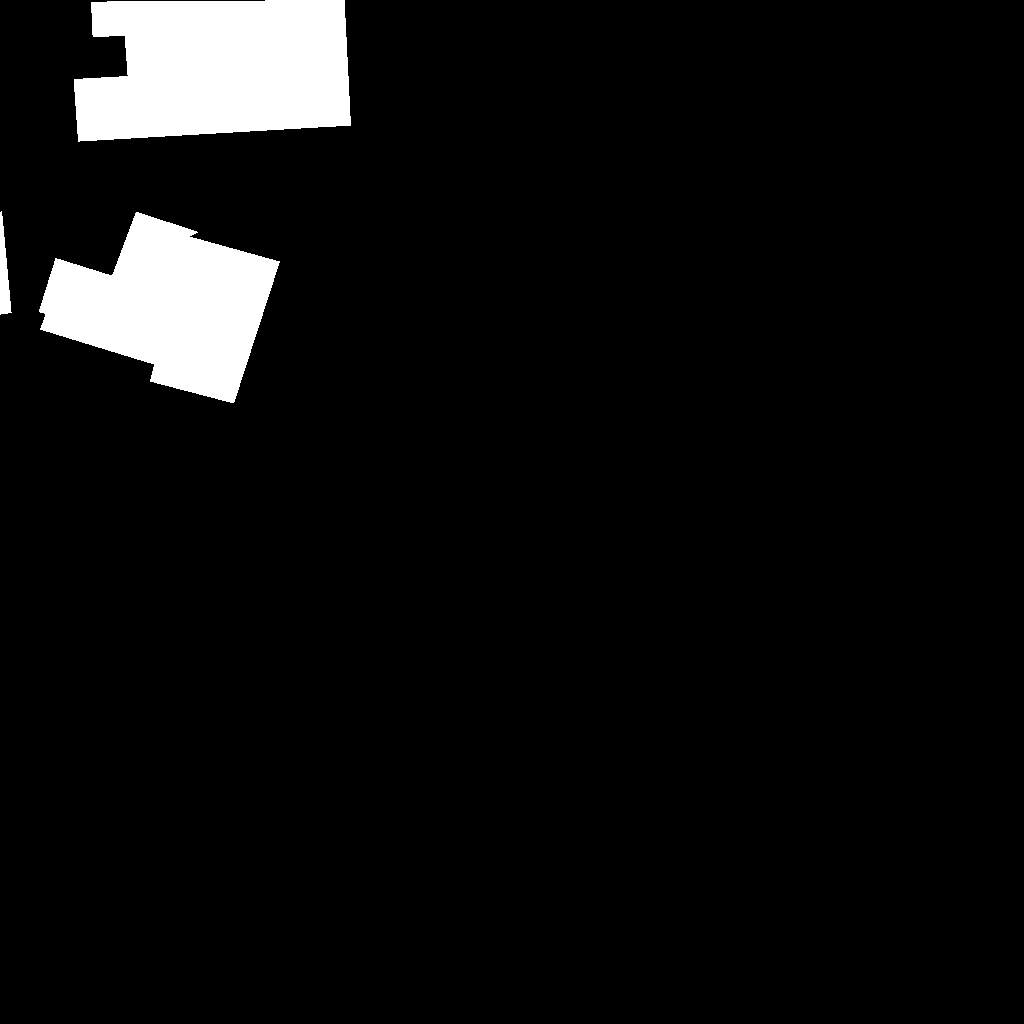building: (39, 212, 281, 404), (74, 0, 352, 142), (0, 211, 12, 315)
